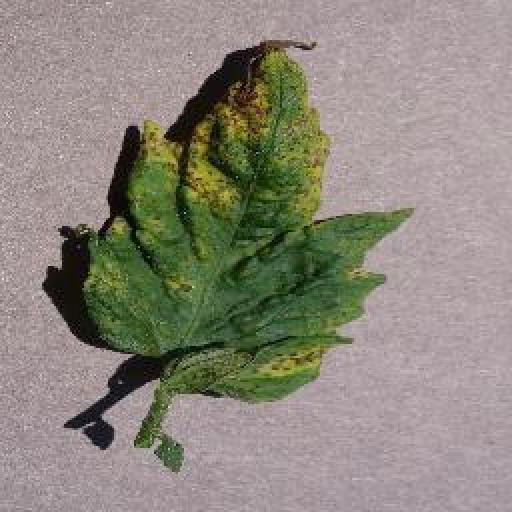disease_tomato: (84, 40, 414, 402)
